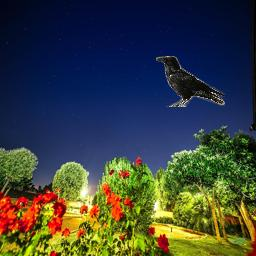Crow: (156, 56, 225, 107)
